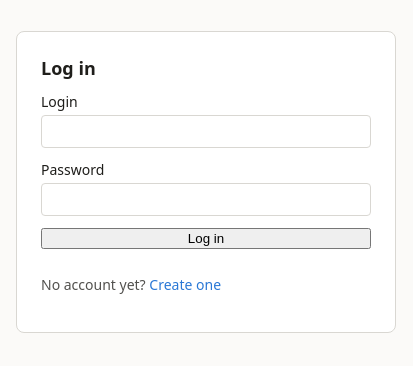
Test: the login screen › refuses an email as a login, in words, and sends nothing
This screenshot has width=413, height=366.
Step 1. Type "otto@example.test" into the field labelled "Login" → [206, 132], box [41,115,371,148]
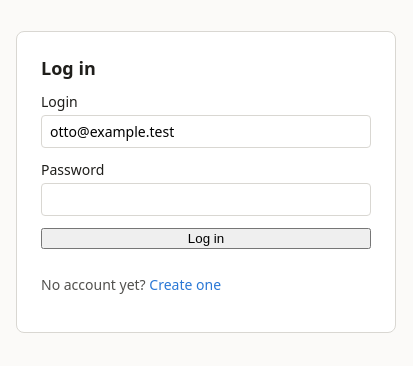
Step 2. Type "otto-pass-1" into the password field labelled "Password" → [206, 200], box [41,183,371,216]
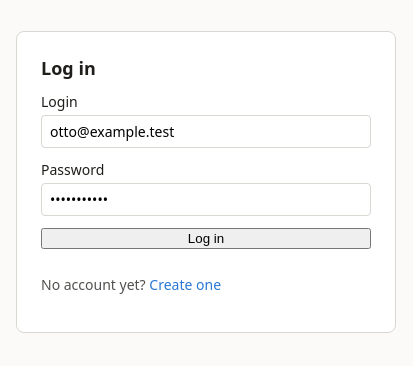
Step 3. Click the button "Log in" → [206, 238], box [41,228,371,249]
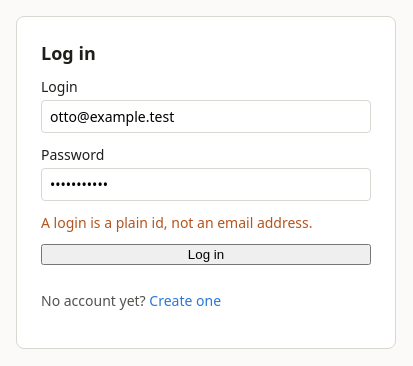
Result: the message reads "A login is a plain id, not an email address." at [41,212,312,232]
